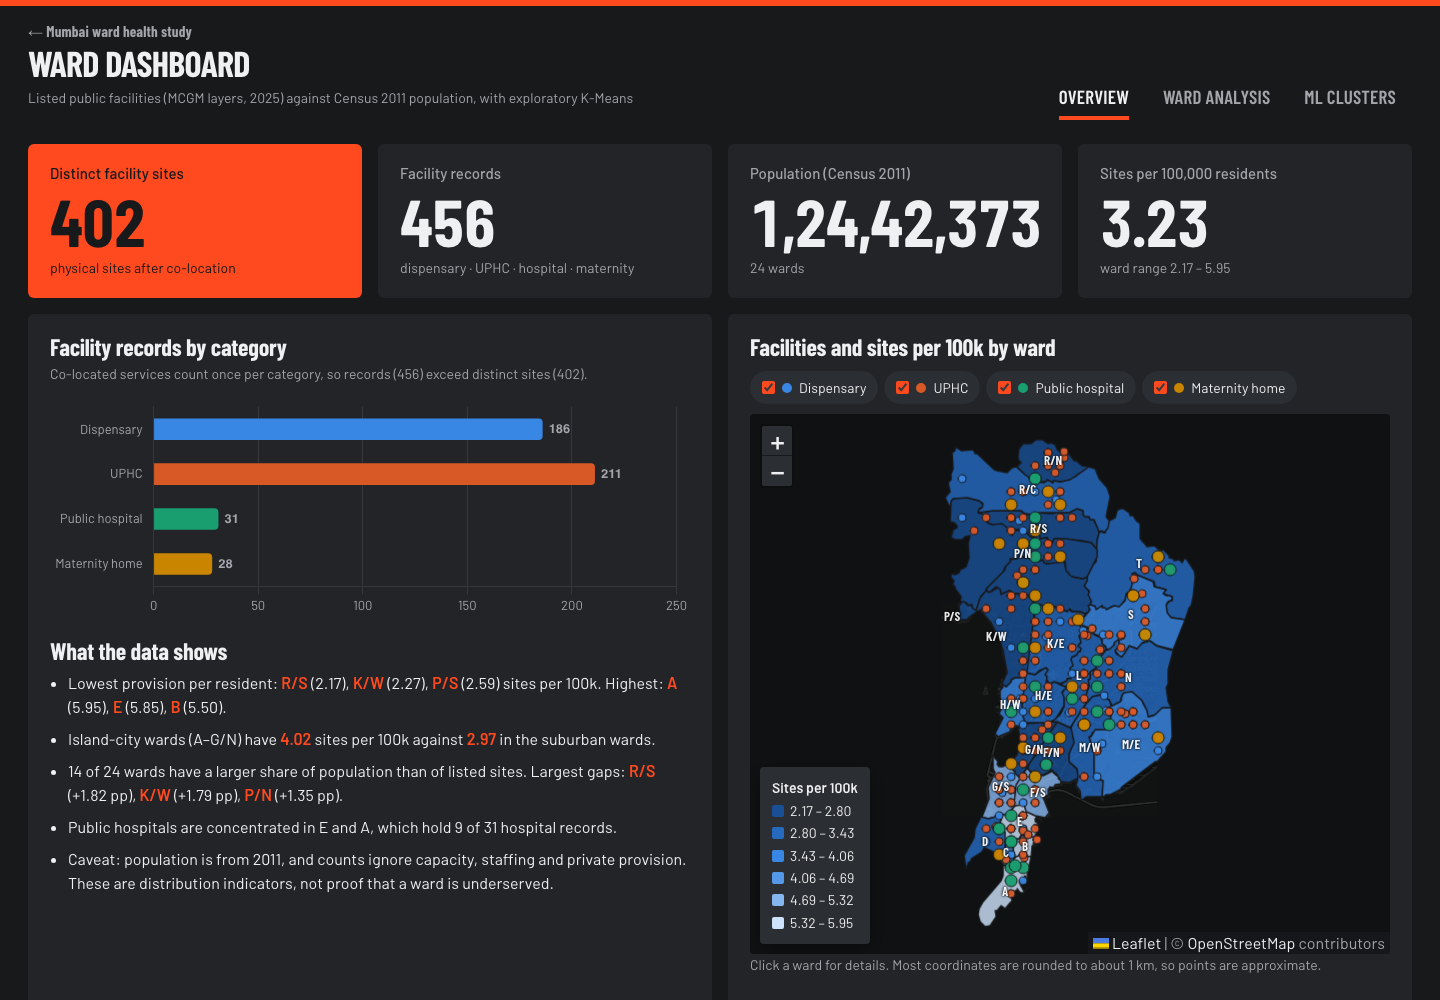

Layout of this report page (visuals, bound fields, positions):
{"tool":"powerbi","page":{"name":"Mumbai facilities","canvas":[1280,720],"ordinal":3},"visuals":[{"type":"textbox","box":[0,0,140,720],"z":100},{"type":"textbox","box":[10,18,120,84],"z":200},{"type":"actionButton","box":[14,124,112,44],"z":300},{"type":"actionButton","box":[14,182,112,44],"z":400},{"type":"actionButton","box":[14,240,112,44],"z":500},{"type":"actionButton","box":[14,298,112,44],"z":600},{"type":"actionButton","box":[14,356,112,44],"z":700},{"type":"textbox","box":[150,10,1115,62],"z":900},{"type":"textbox","box":[150,72,1115,4],"z":1100},{"type":"slicer","fields":{"Values":["dim_category.category_label"]},"box":[150,84,470,74],"z":1200},{"type":"slicer","fields":{"Values":["dim_ward.ward_name"]},"box":[632,84,150,74],"z":1300},{"type":"card","title":"Sites","fields":{"Values":["fact_facility.Total Distinct Sites"]},"box":[794,84,108.8,74],"z":1400},{"type":"card","title":"Sites per 100k","fields":{"Values":["dim_ward.Sites per 100k"]},"box":[908.9,83.7,109.4,74],"z":1500},{"type":"card","title":"Hospitals list rows","fields":{"Values":["hospital_list.Hospitals Listed"]},"box":[1023.7,83.7,129.8,74],"z":1600},{"type":"card","title":"Beds listed","fields":{"Values":["hospital_list.Beds Listed"]},"box":[1156.2,84,108.8,74],"z":1700},{"type":"map","title":"Facility locations (coordinates rounded)","fields":{"Category":["fact_facility.facility_id"],"Series":["dim_category.category_label"],"X":["Avg(fact_facility.longitude)"],"Y":["Avg(fact_facility.latitude)"]},"box":[150,170,420,534],"z":1800},{"type":"clusteredBarChart","title":"Sites per 100k people by ward","fields":{"Category":["dim_ward.ward_name"],"Y":["dim_ward.Sites per 100k"]},"box":[582,170,335.5,534],"z":1900},{"type":"donutChart","title":"Facility records by category","fields":{"Category":["dim_category.category_label"],"Y":["fact_facility.Facility Records"]},"box":[929.5,170,335.5,220],"z":2000},{"type":"clusteredBarChart","title":"Hospitals list beds by ownership","fields":{"Category":["hospital_list.ownership_class"],"Y":["hospital_list.Beds Listed"]},"box":[929.5,402,335.5,302],"z":2100}]}

Visuals, with their boxes on the page's 1280x720 design canvas (x1, y1, x2, y2). These are canvas units, not pixel positions in the 1440x1000 screenshot, which may show the page scaled, cropped or inside an application window:
textbox: bbox(0, 0, 140, 720)
textbox: bbox(10, 18, 130, 102)
actionButton: bbox(14, 124, 126, 168)
actionButton: bbox(14, 182, 126, 226)
actionButton: bbox(14, 240, 126, 284)
actionButton: bbox(14, 298, 126, 342)
actionButton: bbox(14, 356, 126, 400)
textbox: bbox(150, 10, 1265, 72)
textbox: bbox(150, 72, 1265, 76)
slicer - dim_category.category_label: bbox(150, 84, 620, 158)
slicer - dim_ward.ward_name: bbox(632, 84, 782, 158)
"Sites" card: bbox(794, 84, 903, 158)
"Sites per 100k" card: bbox(909, 84, 1018, 158)
"Hospitals list rows" card: bbox(1024, 84, 1154, 158)
"Beds listed" card: bbox(1156, 84, 1265, 158)
"Facility locations (coordinates rounded)" map: bbox(150, 170, 570, 704)
"Sites per 100k people by ward" clusteredBarChart: bbox(582, 170, 918, 704)
"Facility records by category" donutChart: bbox(930, 170, 1265, 390)
"Hospitals list beds by ownership" clusteredBarChart: bbox(930, 402, 1265, 704)
